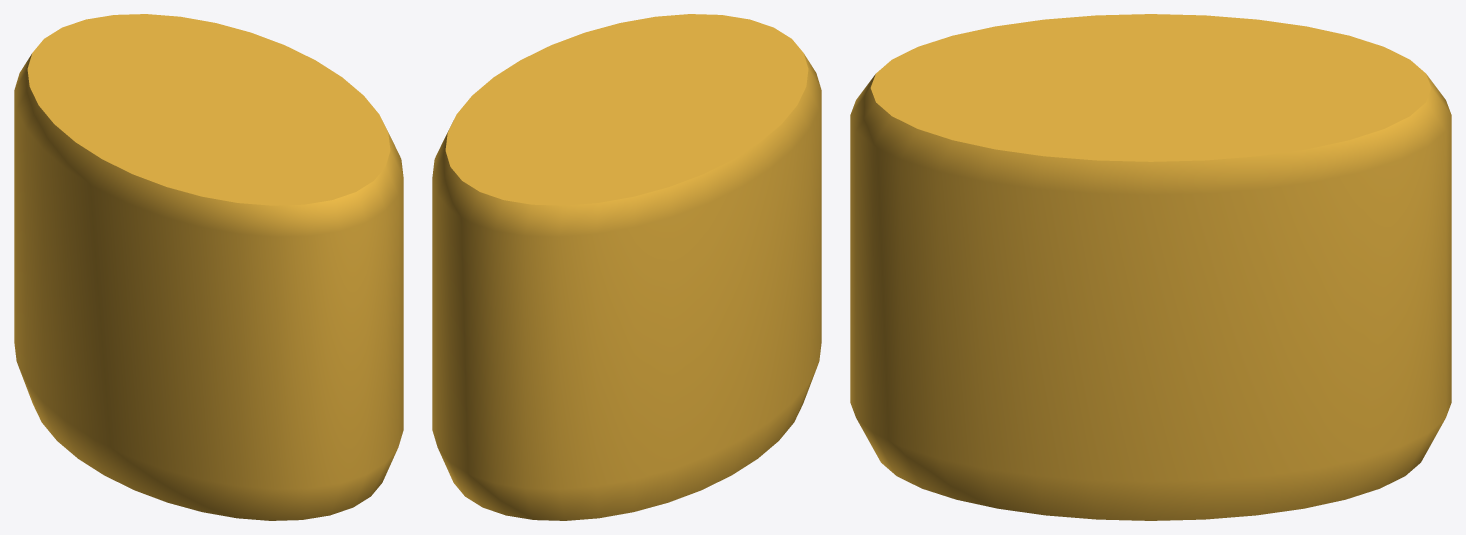
The model's file is Fuchi.obj.
3 views of the same model, side by side, from view 1: azimuth 30°, elevation 25°; view 2: azimuth 150°, elevation 25°; view 3: azimuth 270°, elevation 25° (orthographic). The views are drawn at different scales.
Visible parts, largest first — view 1: Fuchi; view 2: Fuchi; view 3: Fuchi.
Boxes of the visible parts, x1=… form: Fuchi: x1=14, y1=14, x2=403, y2=520; Fuchi: x1=432, y1=14, x2=821, y2=520; Fuchi: x1=850, y1=14, x2=1451, y2=520.
Size of the model in its own units: 0.1841 by 0.195 by 0.295.
